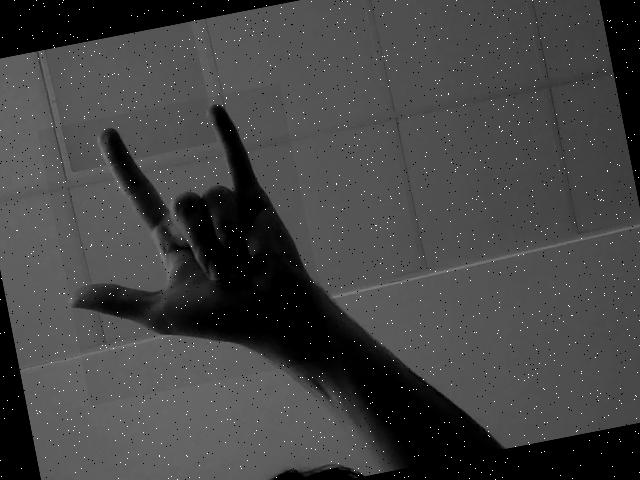I_Love_You: (71, 97, 316, 370)
